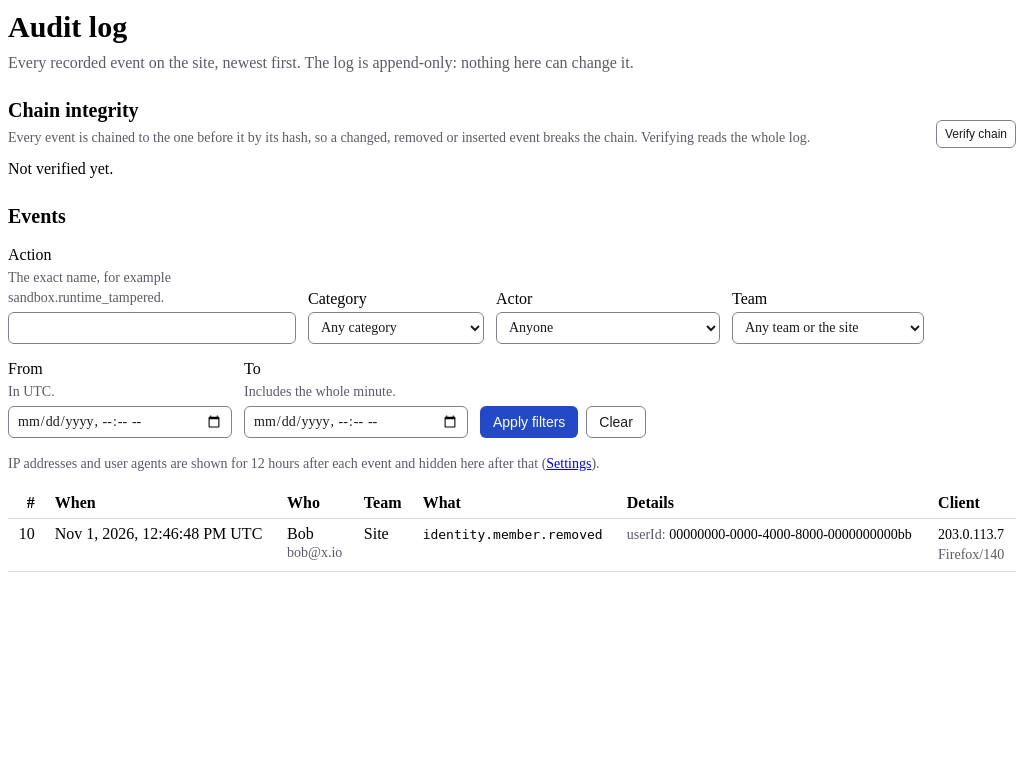
Test: Site audit log (KOBE-291) › refuses a malformed action or a reversed time range before asking the server
The width and height of the screenshot is (1024, 768).
In the field labelled "Action": (152, 328) [8,312,296,344], type "not an action"
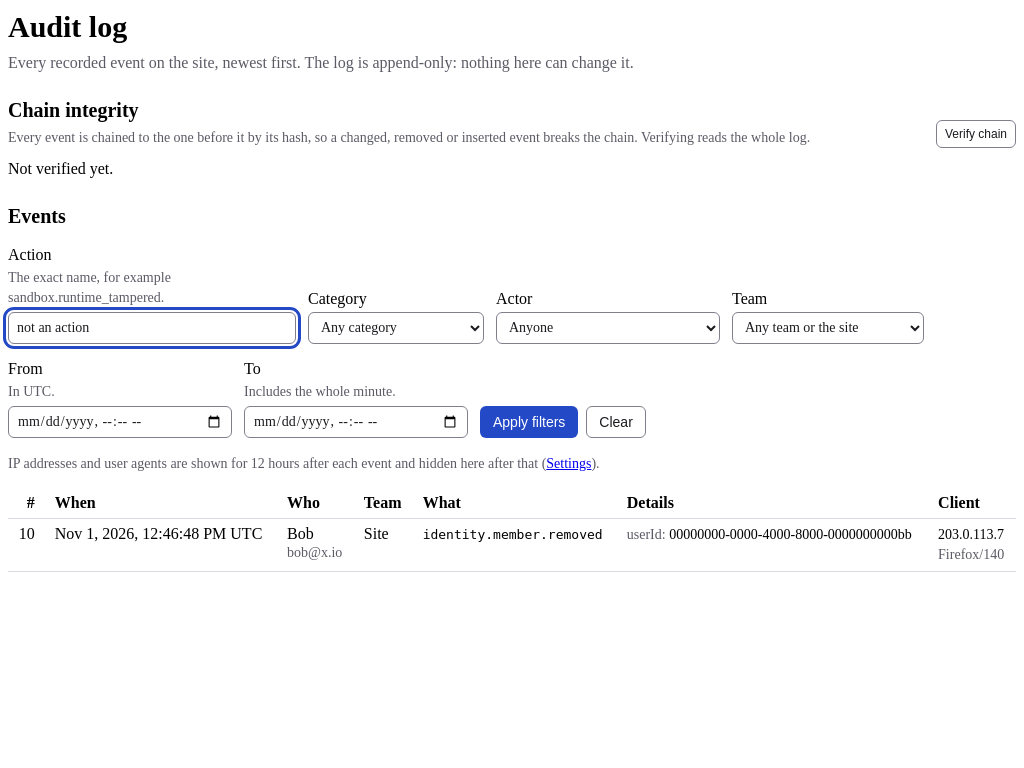
In the field labelled "From": (120, 422) [8,406,232,438], type "2026-10-02T10:00"
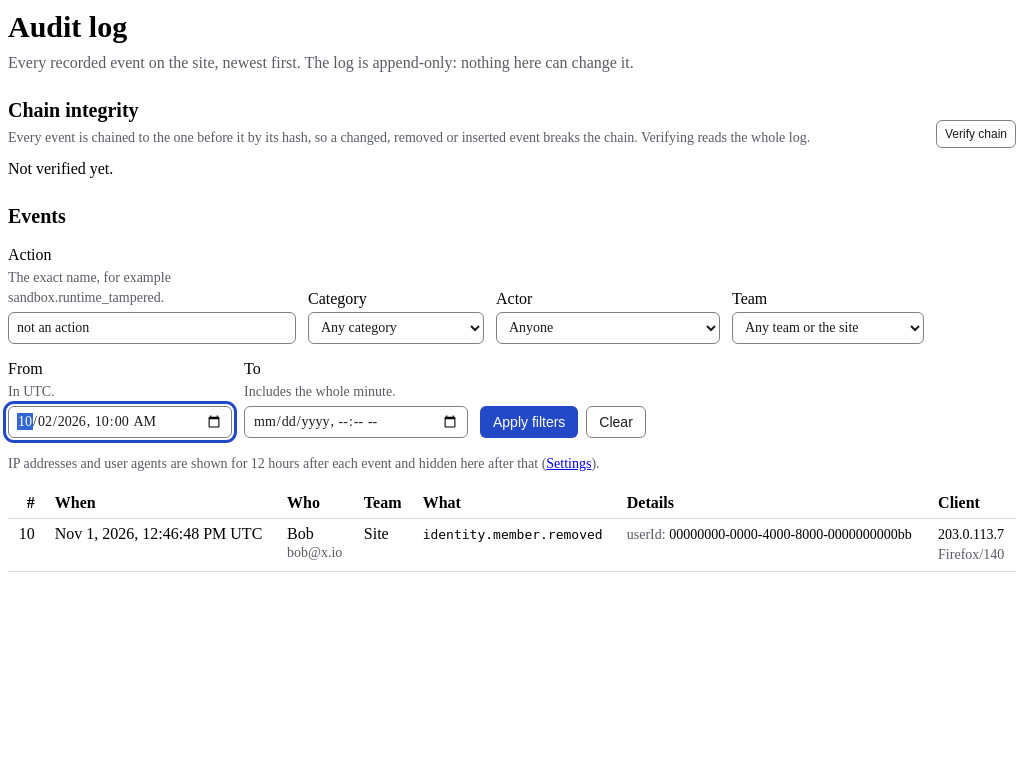
In the field labelled "To": (356, 422) [244,406,468,438], type "2026-10-01T10:00"
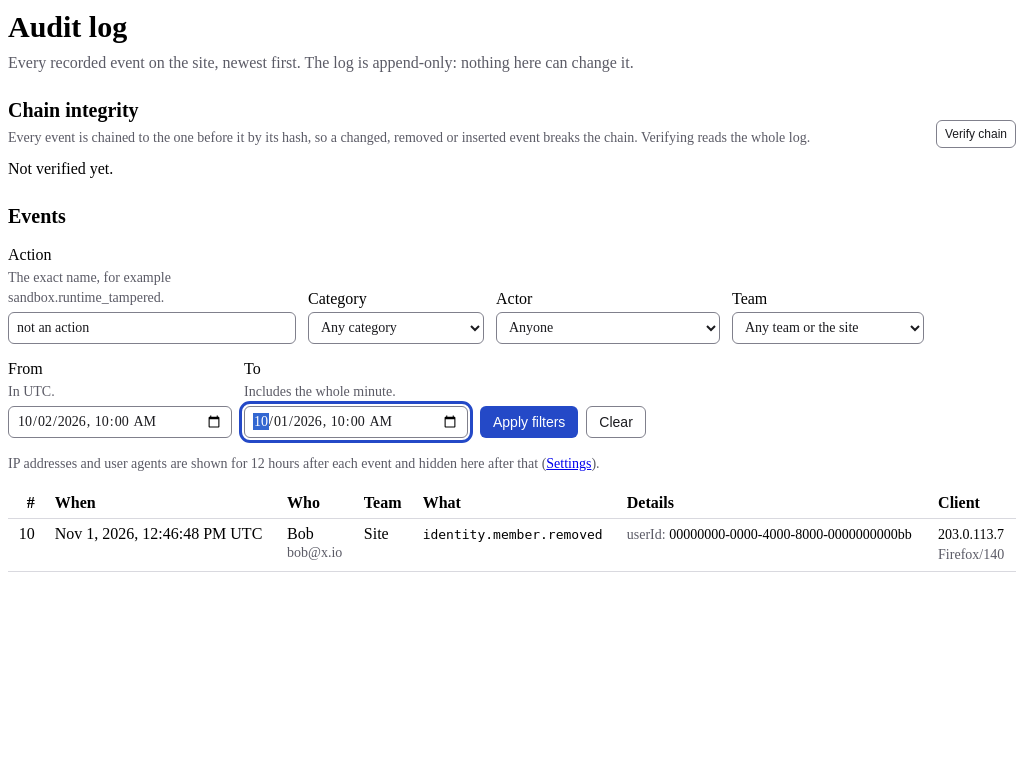
Click the button "Apply filters": (529, 422) [480,406,578,438]
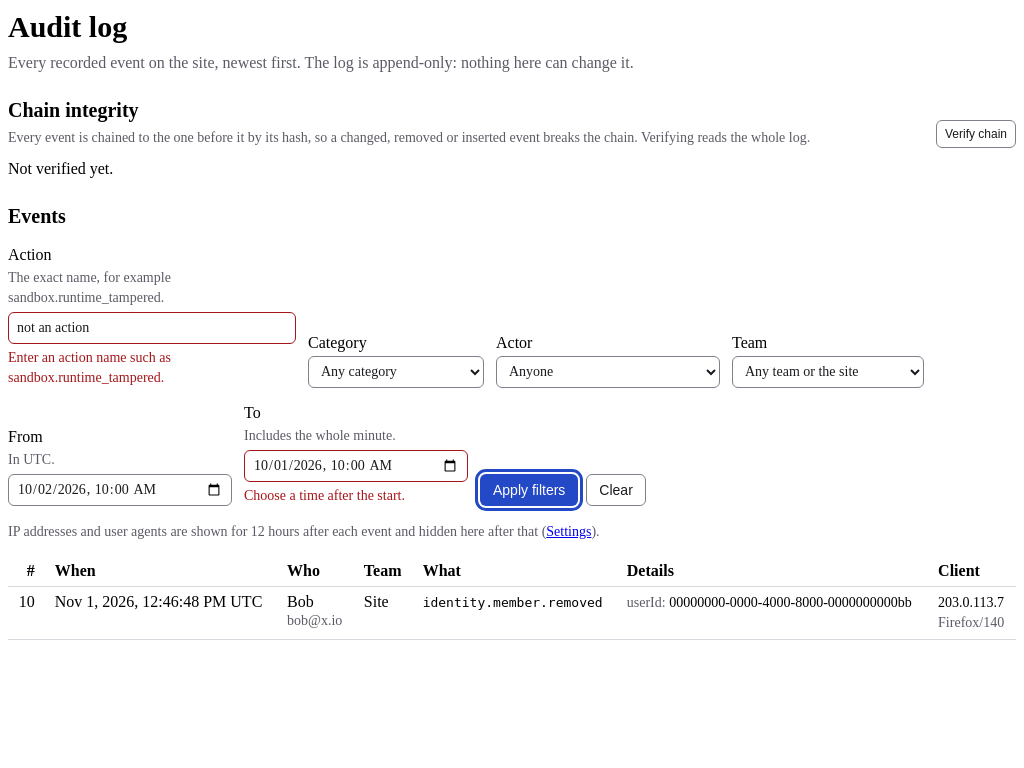
Expected: the text "Enter an action name such as sandbox.runtime_tampered." is shown, [8,350,171,384]
Expected: the text "Choose a time after the start." is shown, [244,488,405,502]
